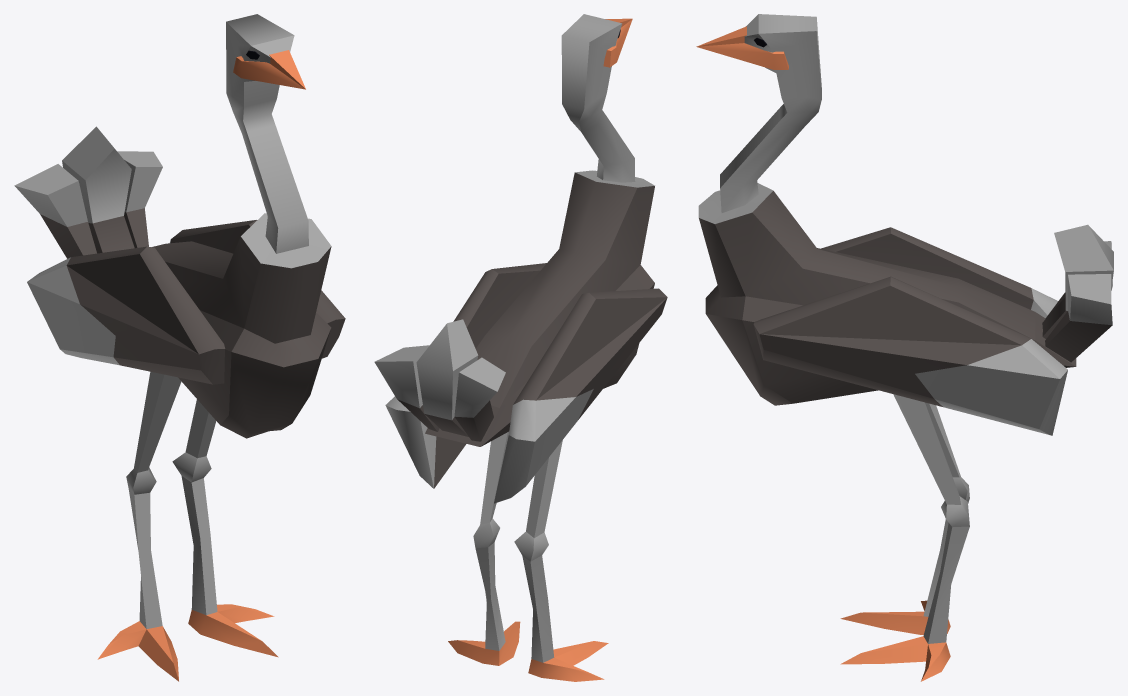
Rendered from Ostrich.fbx.
3 renders of one model, left to right at view 1: azimuth 30°, elevation 25°; view 2: azimuth 150°, elevation 25°; view 3: azimuth 270°, elevation 25°, orthographic. The views are drawn at different scales.
Visible parts, largest first — view 1: Ostrich; view 2: Ostrich; view 3: Ostrich.
Boxes of the visible parts, x1,y1,x2,y2 form: Ostrich: (14,14,345,681); Ostrich: (374,14,667,681); Ostrich: (696,14,1113,681).
Bounding box in the file's own units: 16.24 × 57.84 × 35.47.
